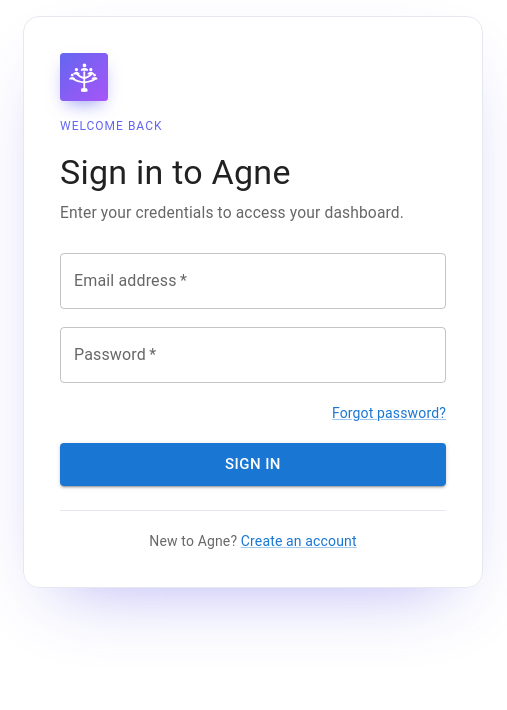
Test case: Login page › shows an error alert and does not navigate on rejected login
In the field labelled "Email address": {"x": 253, "y": 281} [60,253,446,309], type "ada@example.com"
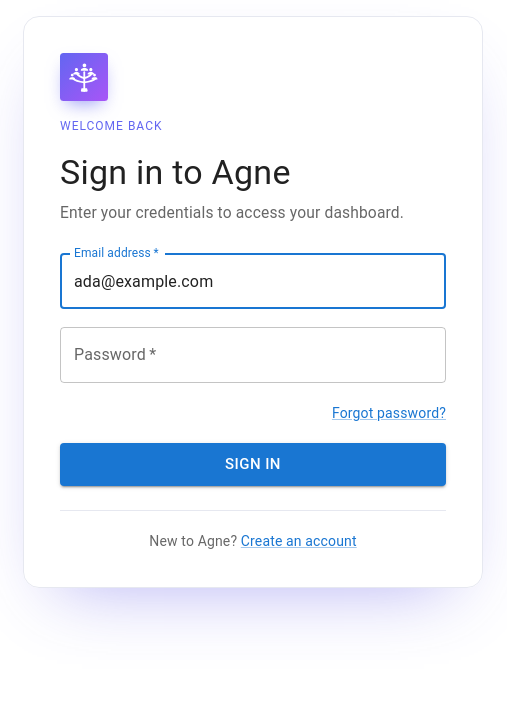
In the password field labelled "Password": {"x": 253, "y": 355} [60,327,446,383], type "wrong-password"
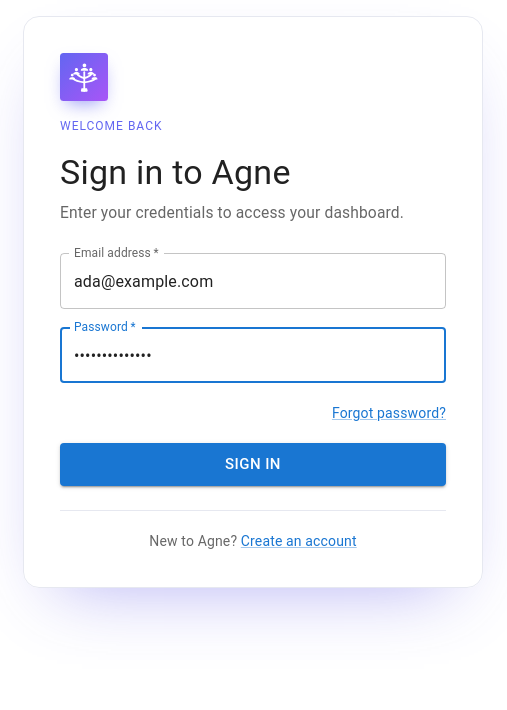
Click the button "Sign in": {"x": 253, "y": 465} [60,443,446,486]
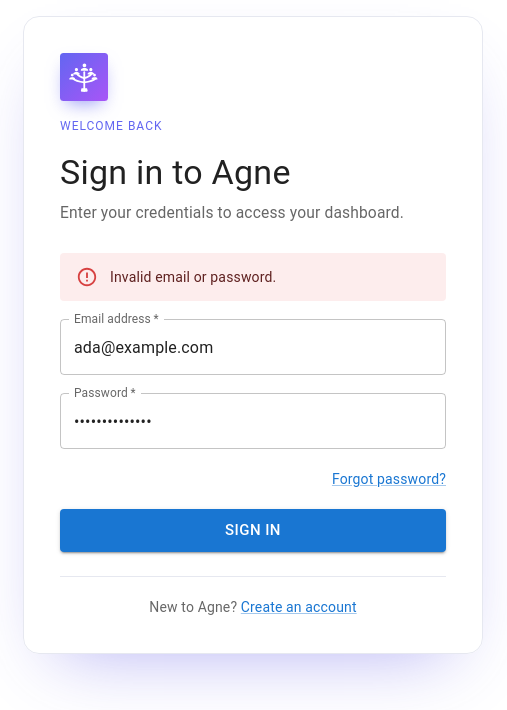
Now the message reads "Invalid email or password.", box [110,269,276,285]
